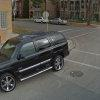Car: (2, 26, 72, 89)
